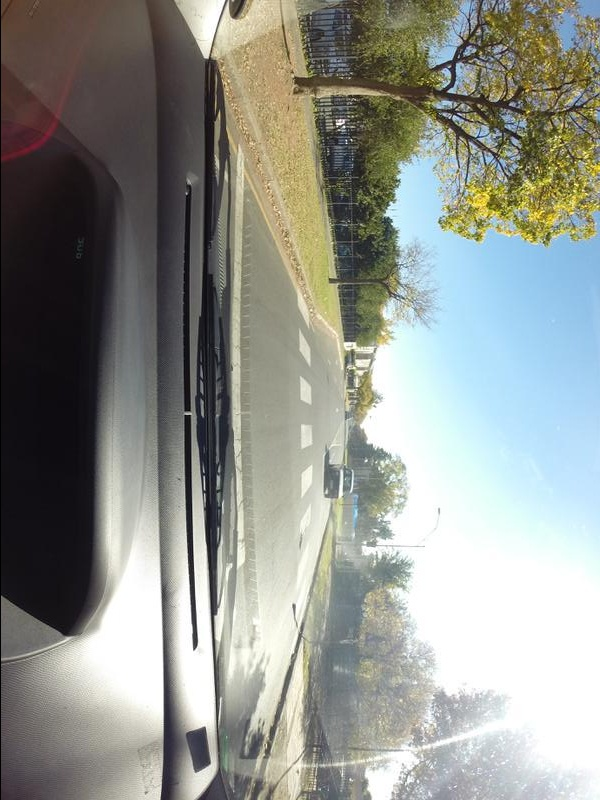pothole: (296, 534, 304, 551)
